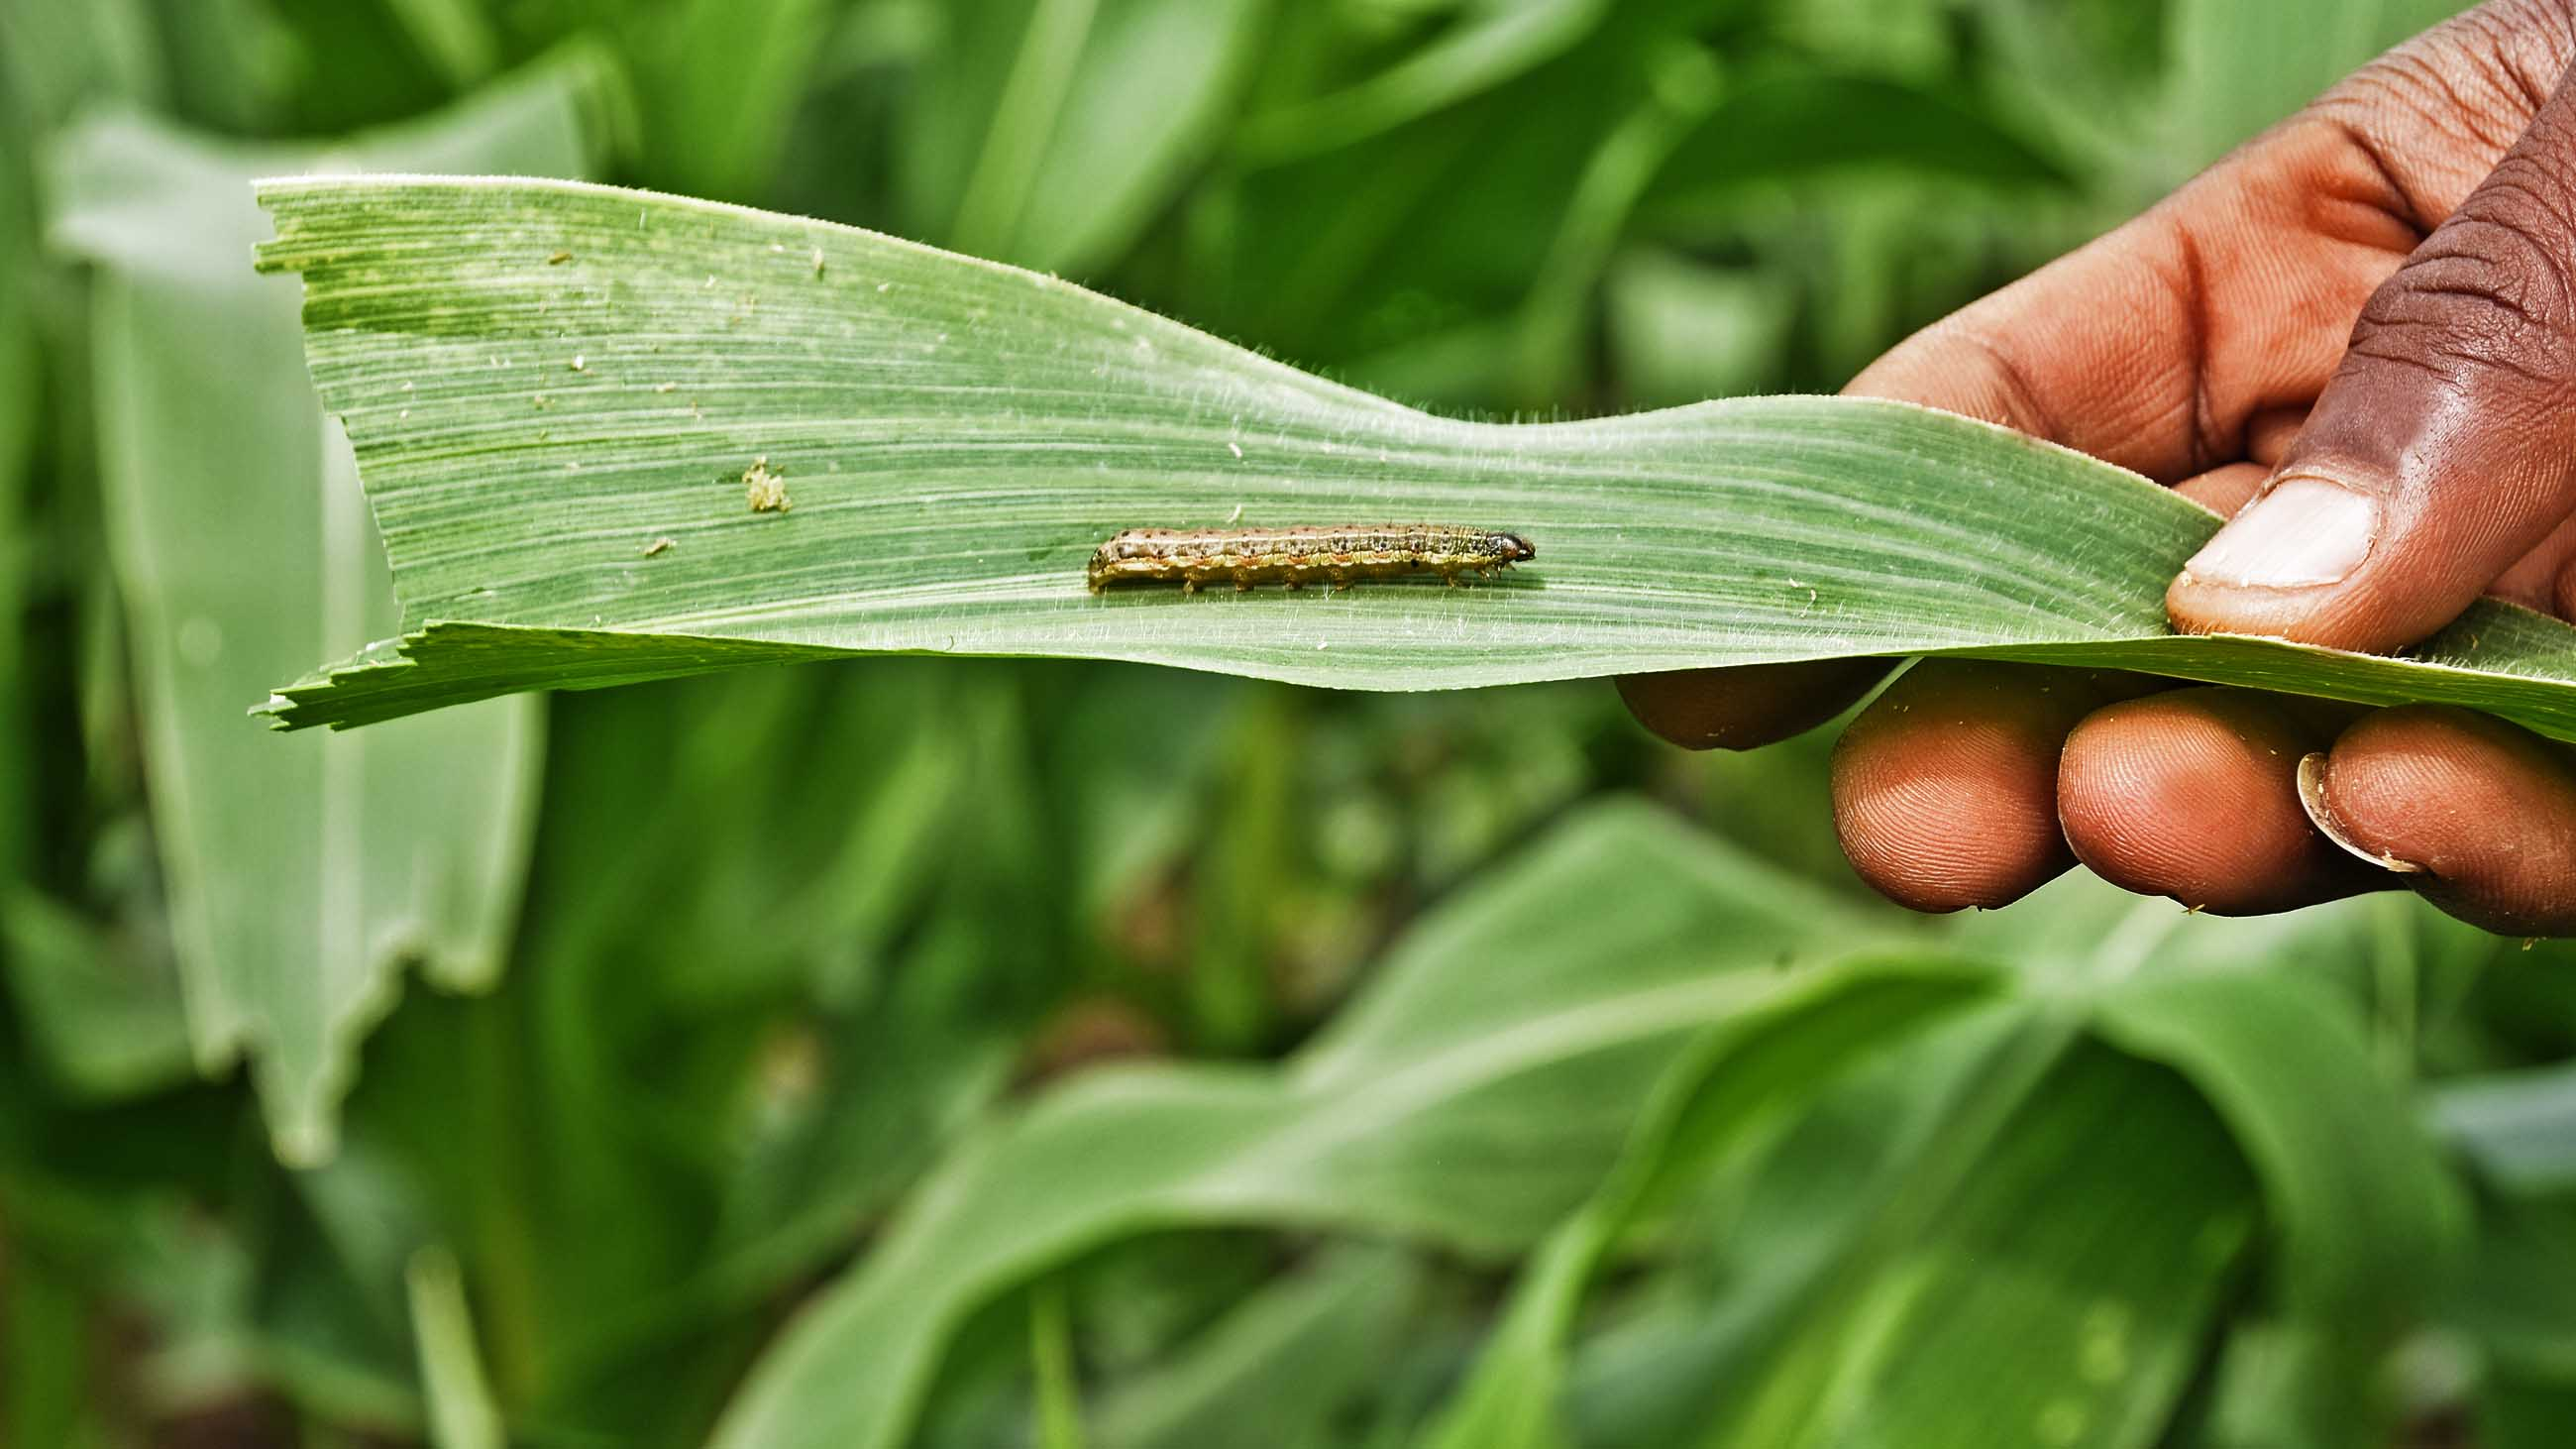Armyworm: (1036, 475, 1605, 612)
